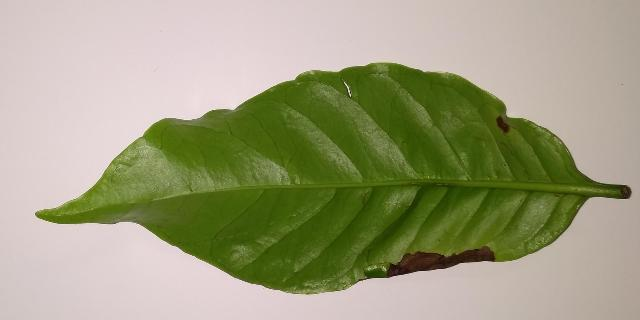rust: (387, 247, 495, 277), (497, 117, 510, 133)
